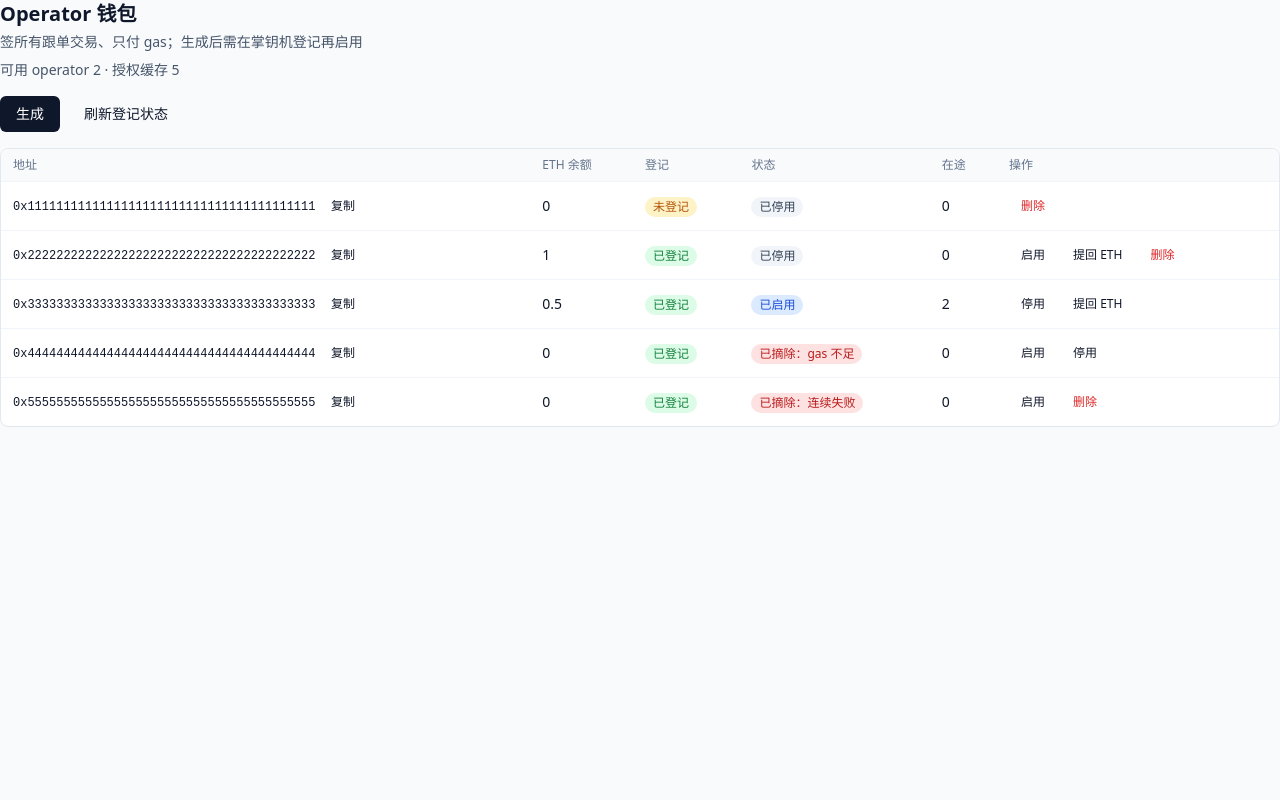
Test: shows a non-bypassable 409 delete message (请先停用该 operator) with no 强制删除 button
Click the 2nd button "删除". click: (1162, 255)
box: [1138, 239, 1186, 271]
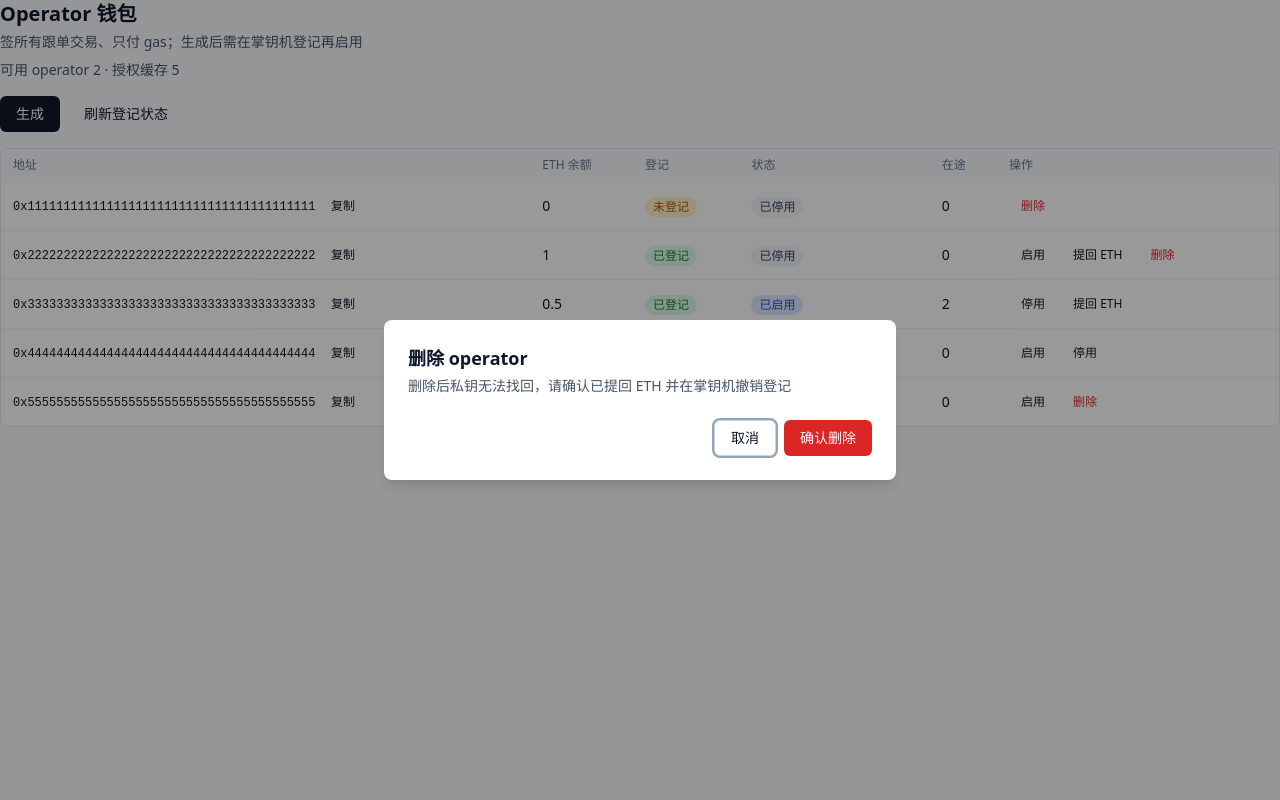
Click the button "确认删除". click: (828, 438)
box: [784, 420, 872, 456]
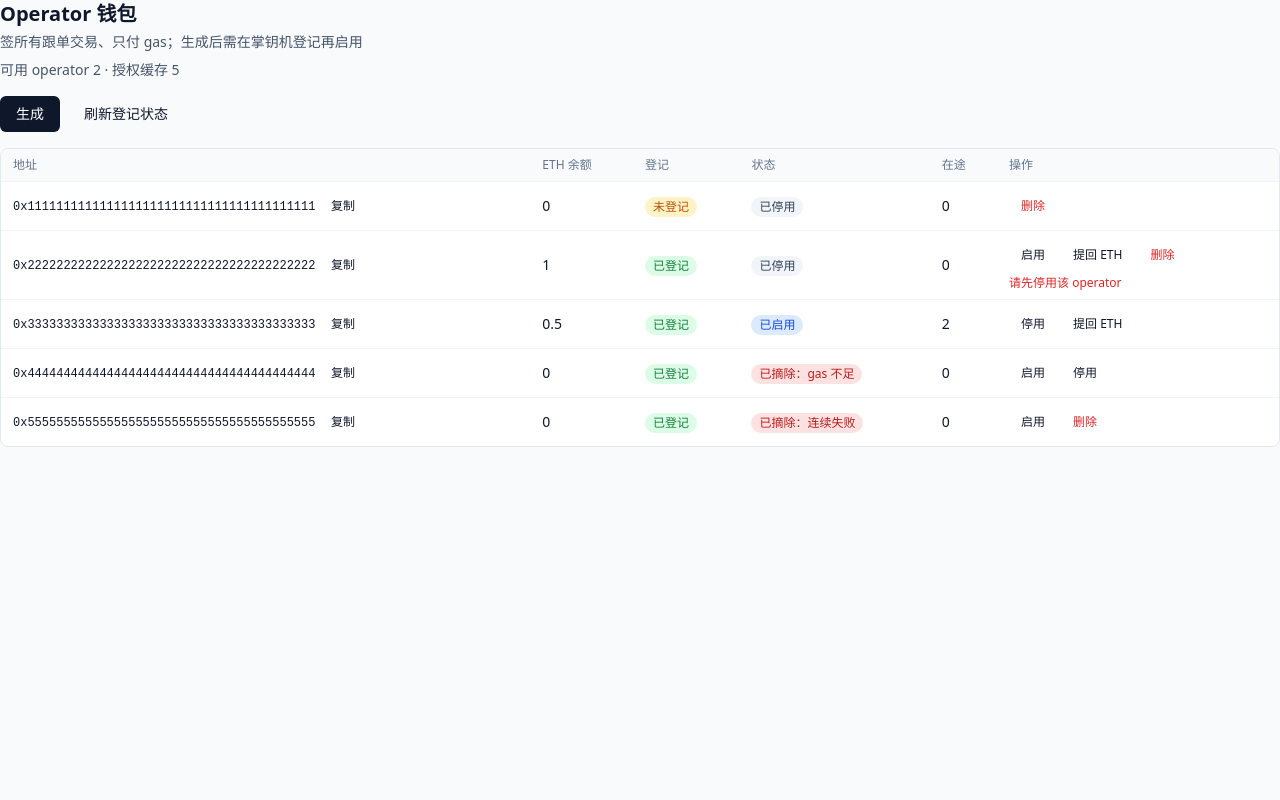
Now the text "请先停用该 operator" is shown, box [1009, 274, 1122, 291]
